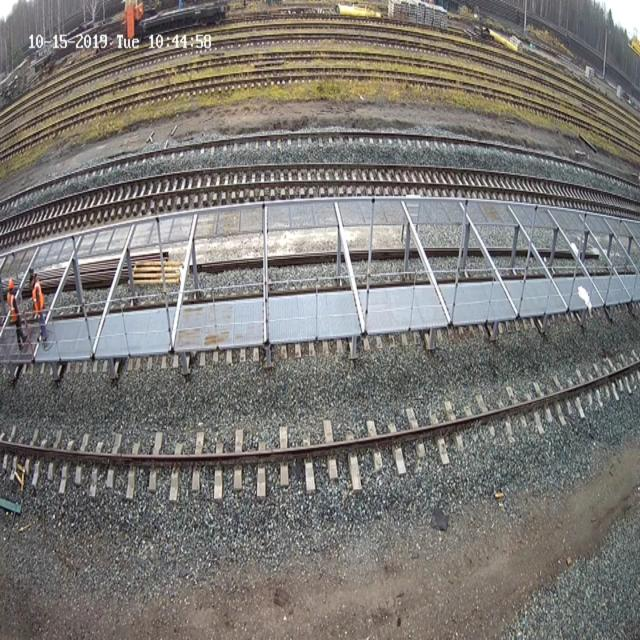Helmet: (8, 279, 14, 289)
Person: (7, 279, 24, 349), (30, 273, 47, 342)
